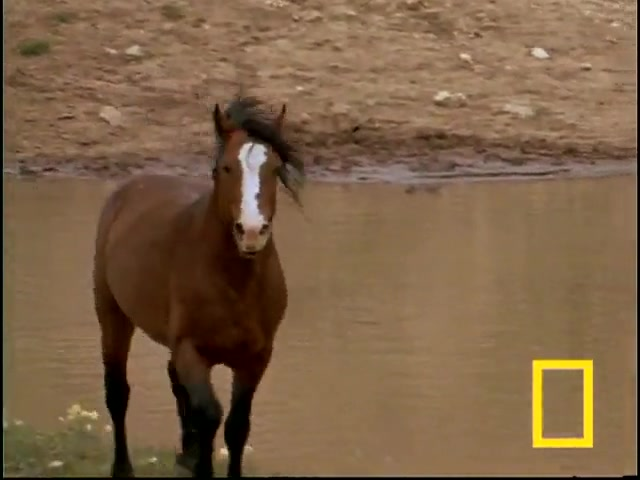horse: (94, 97, 307, 478)
